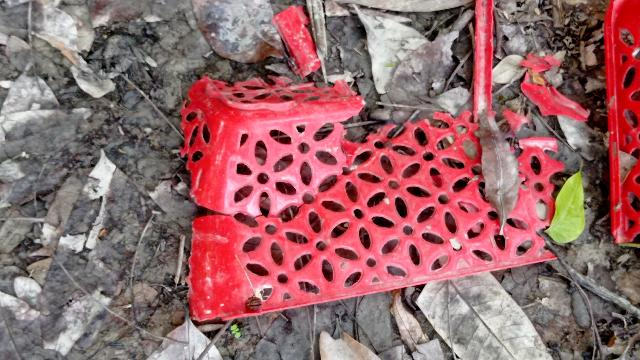hardplastic: (168, 29, 595, 330)
